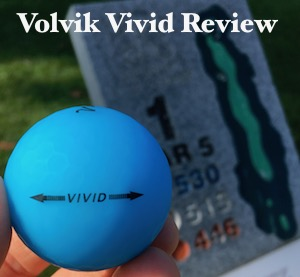blue ball: (3, 103, 174, 272)
